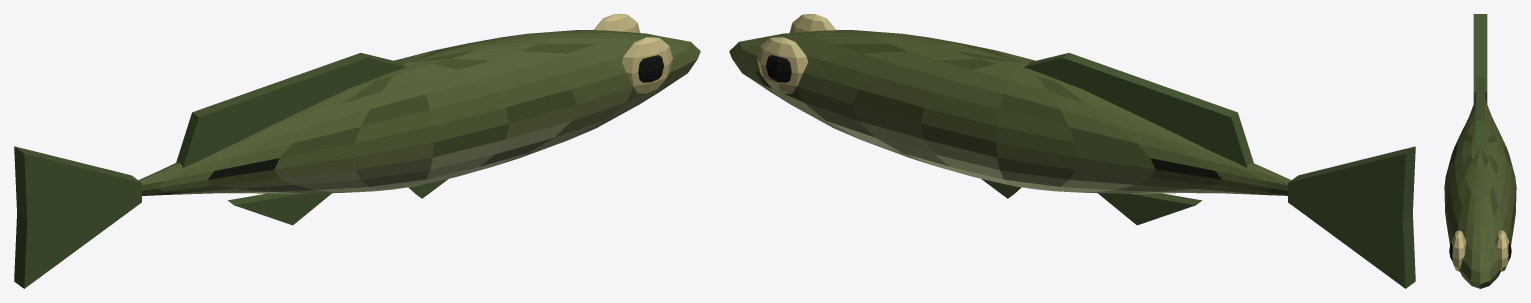
Rendered from Bowfin.glb.
3 renders of one model, left to right at view 1: azimuth 30°, elevation 25°; view 2: azimuth 150°, elevation 25°; view 3: azimuth 270°, elevation 25°, orthographic. The views are drawn at different scales.
Visible parts, largest first — view 1: Bowfin; view 2: Bowfin; view 3: Bowfin.
Part boxes in pixels (x1,y1,x2,y2): Bowfin: (14,14,700,288); Bowfin: (729,14,1415,288); Bowfin: (1444,14,1516,288).
Bounding box in the file's own units: 6.28 × 1.36 × 0.8533.
